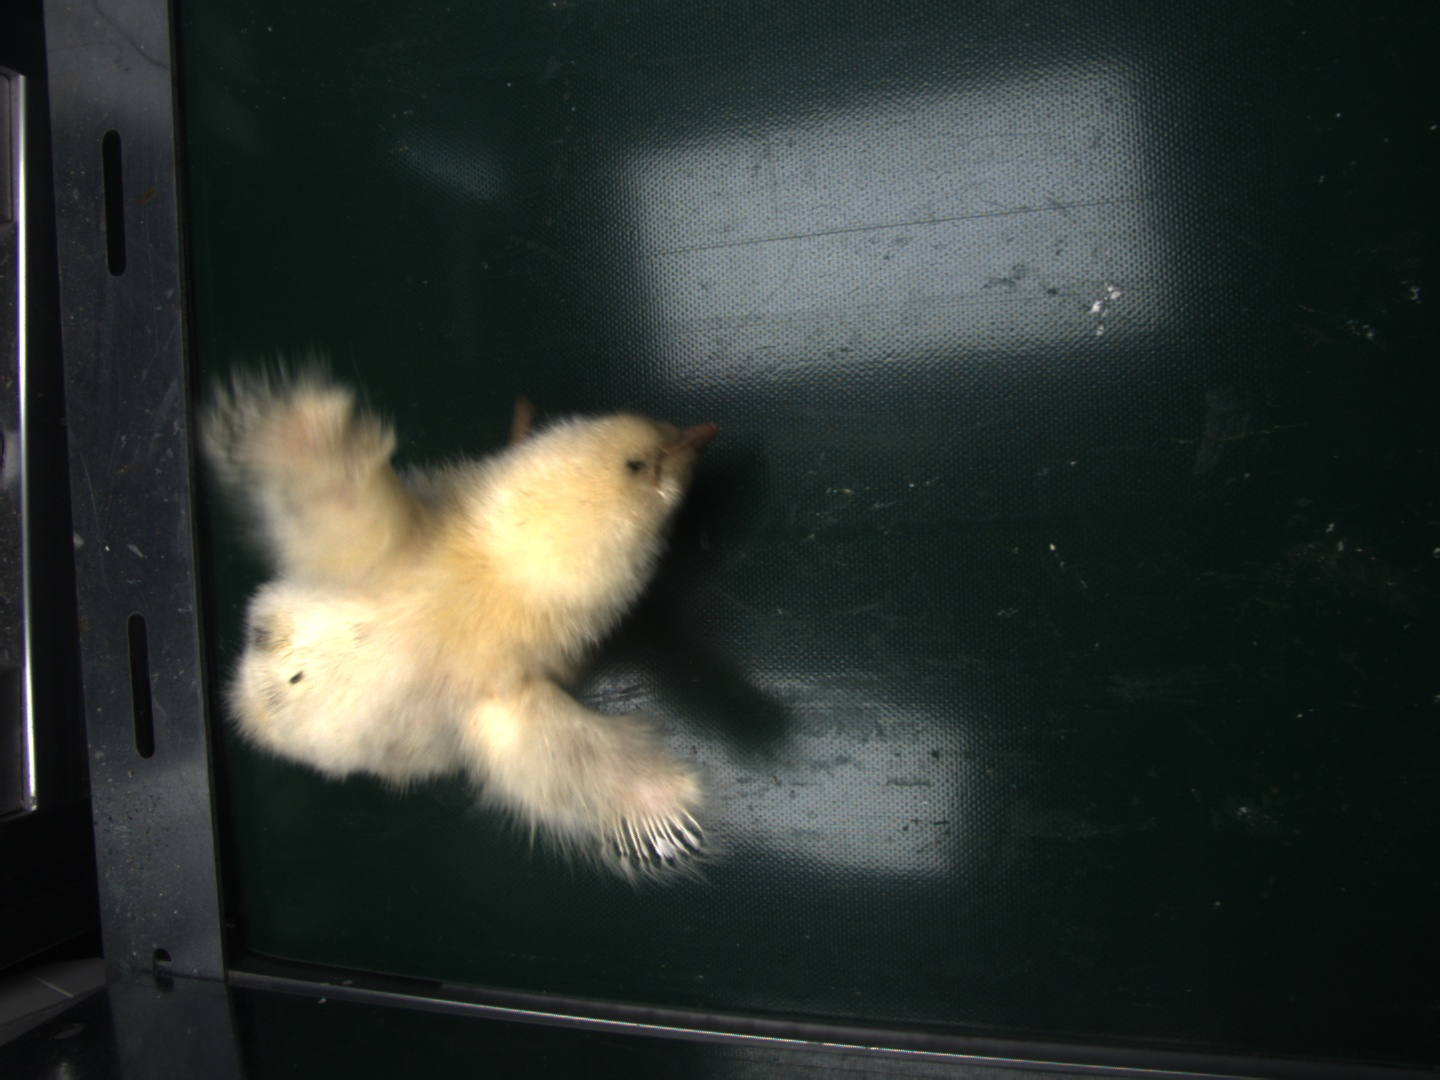male: (601, 807, 695, 862)
